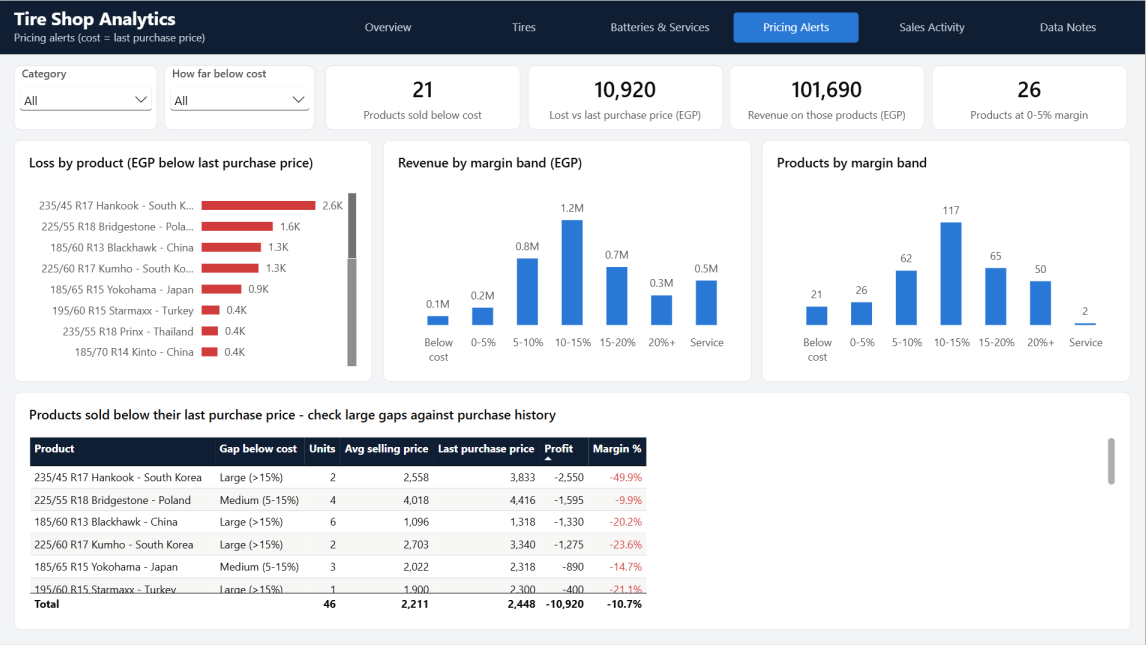

This screenshot's page, from the dashboard's own definition file:
{"tool":"powerbi","page":{"name":"Pricing Alerts","canvas":[1280,720],"ordinal":3},"visuals":[{"type":"shape","box":[0,0,1280,60],"z":100},{"type":"textbox","box":[16,6,340,50],"z":200},{"type":"pageNavigator","box":[364,13,900,34],"z":300},{"type":"slicer","fields":{"Values":["Products.Category"]},"box":[16,72,160,72],"z":400},{"type":"slicer","fields":{"Values":["Product Sales.Loss Gap"]},"box":[184,72,168,72],"z":500},{"type":"card","fields":{"Values":["Product Sales.Loss Products"]},"box":[364,72,218,72],"z":600},{"type":"card","fields":{"Values":["Product Sales.Loss Amount"]},"box":[590,72,218,72],"z":700},{"type":"card","fields":{"Values":["Product Sales.Revenue at Loss"]},"box":[816,72,218,72],"z":800},{"type":"card","fields":{"Values":["Product Sales.Low Margin Products"]},"box":[1042,72,218,72],"z":900},{"type":"clusteredBarChart","title":"Loss by product (EGP below last purchase price)","fields":{"Category":["Products.Product"],"Y":["Product Sales.Loss Amount"]},"box":[16,156,400,270],"z":1000},{"type":"clusteredColumnChart","title":"Revenue by margin band (EGP)","fields":{"Category":["Product Sales.Margin Band"],"Y":["Product Sales.Revenue"]},"box":[428,156,412,270],"z":1100},{"type":"clusteredColumnChart","title":"Products by margin band","fields":{"Category":["Product Sales.Margin Band"],"Y":["Product Sales.Products Sold"]},"box":[852,156,412,270],"z":1200},{"type":"tableEx","title":"Products sold below their last purchase price - check large gaps against purchase history","fields":{"Values":["Products.Product","Product Sales.Loss Gap","Product Sales.Units Sold","Product Sales.Avg Selling Price","Product Sales.Avg Cost per Unit","Product Sales.Profit","Product Sales.Margin %"]},"box":[16,438,1248,266],"z":1300}]}

Visuals, with their boxes in screenshot pixels (x1, y1, x2, y2), scaled from the page's 1280x720 canvas onto the 1146x645 screenshot:
shape: bbox=[0, 0, 1145, 54]
textbox: bbox=[14, 5, 319, 50]
pageNavigator: bbox=[326, 12, 1132, 42]
slicer - Products.Category: bbox=[14, 64, 158, 129]
slicer - Product Sales.Loss Gap: bbox=[165, 64, 315, 129]
card - Product Sales.Loss Products: bbox=[326, 64, 521, 129]
card - Product Sales.Loss Amount: bbox=[528, 64, 723, 129]
card - Product Sales.Revenue at Loss: bbox=[731, 64, 926, 129]
card - Product Sales.Low Margin Products: bbox=[933, 64, 1128, 129]
"Loss by product (EGP below last purchase price)" clusteredBarChart: bbox=[14, 140, 372, 382]
"Revenue by margin band (EGP)" clusteredColumnChart: bbox=[383, 140, 752, 382]
"Products by margin band" clusteredColumnChart: bbox=[763, 140, 1132, 382]
"Products sold below their last purchase price - check large gaps against purchase history" tableEx: bbox=[14, 392, 1132, 631]
